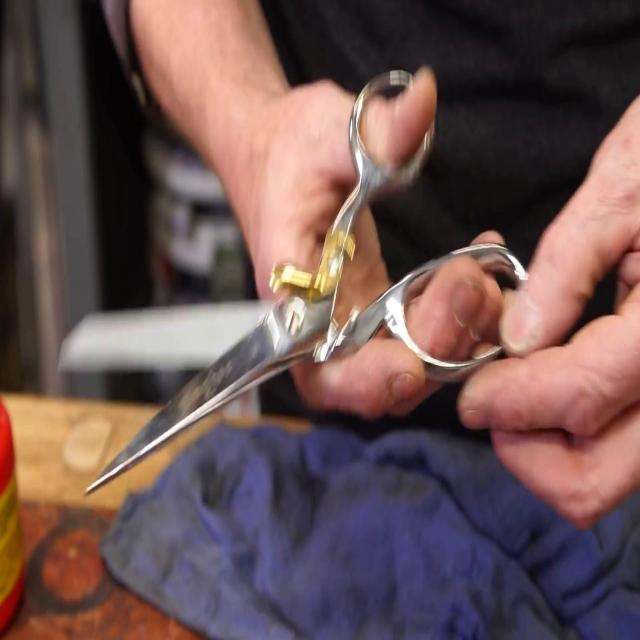scissor: (85, 67, 528, 492)
